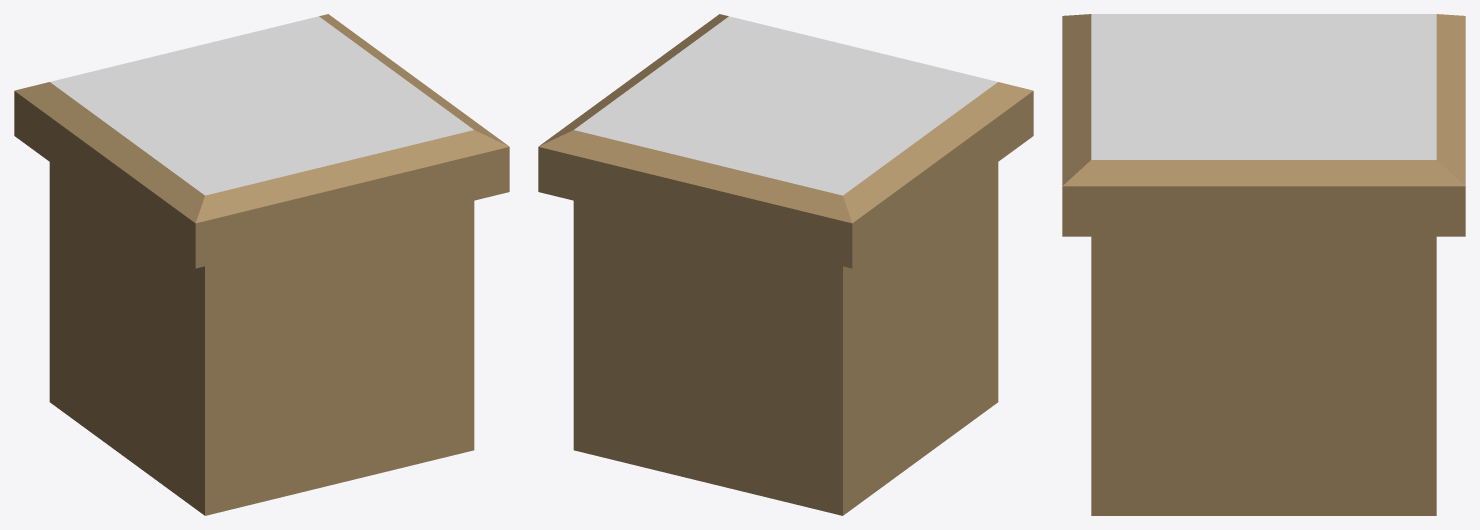
The model's file is Countertop_Singular.fbx.
The picture shows the model from 3 angles, left to right: view 1: azimuth 30°, elevation 25°; view 2: azimuth 150°, elevation 25°; view 3: azimuth 270°, elevation 25°; orthographic projection. The views are drawn at different scales.
Parts seen in each view (by area): view 1: Cube.005; view 2: Cube.005; view 3: Cube.005.
Boxes of the visible parts, x1=… form: Cube.005: x1=14, y1=14, x2=509, y2=515; Cube.005: x1=538, y1=14, x2=1033, y2=515; Cube.005: x1=1062, y1=14, x2=1465, y2=515.
Bounding box in the file's own units: 234 × 227 × 234.
